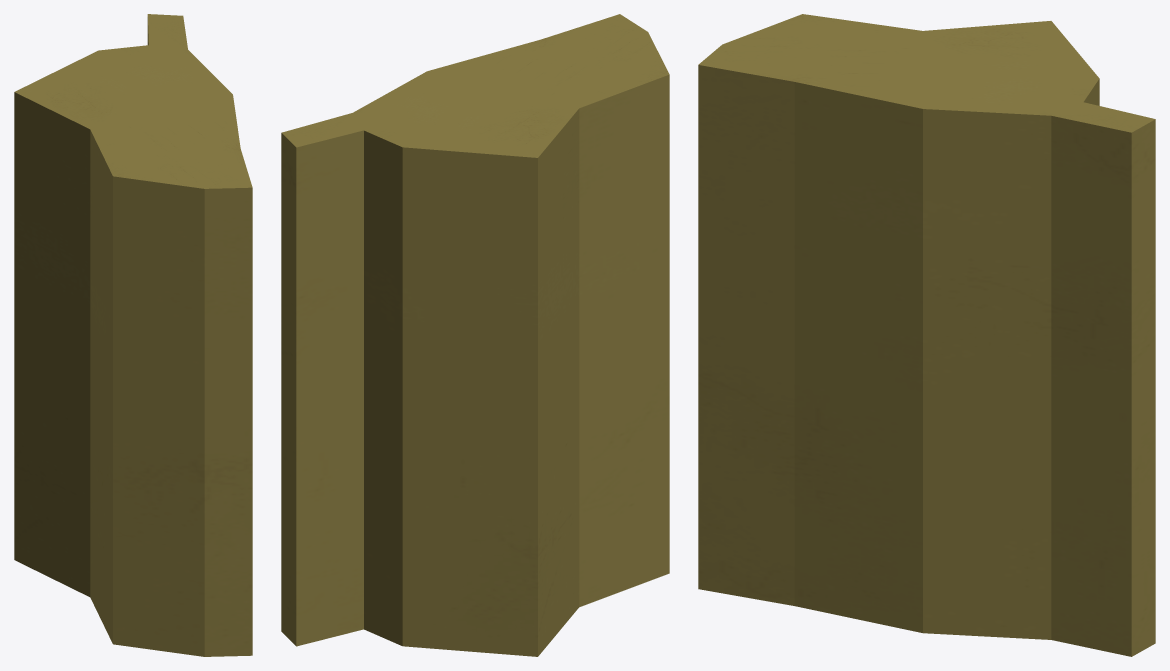
File: corsica.DAE
The picture shows the model from 3 angles, left to right: view 1: azimuth 30°, elevation 25°; view 2: azimuth 150°, elevation 25°; view 3: azimuth 270°, elevation 25°; orthographic projection. The views are drawn at different scales.
Parts seen in each view (by area): view 1: Corsica; view 2: Corsica; view 3: Corsica.
Part boxes in pixels (x1,y1,x2,y2): Corsica: (14, 14, 252, 656); Corsica: (281, 14, 669, 656); Corsica: (698, 14, 1155, 656).
Size of the model in its own units: 12.14 by 19.77 by 25.
1 material, 1 textured.
